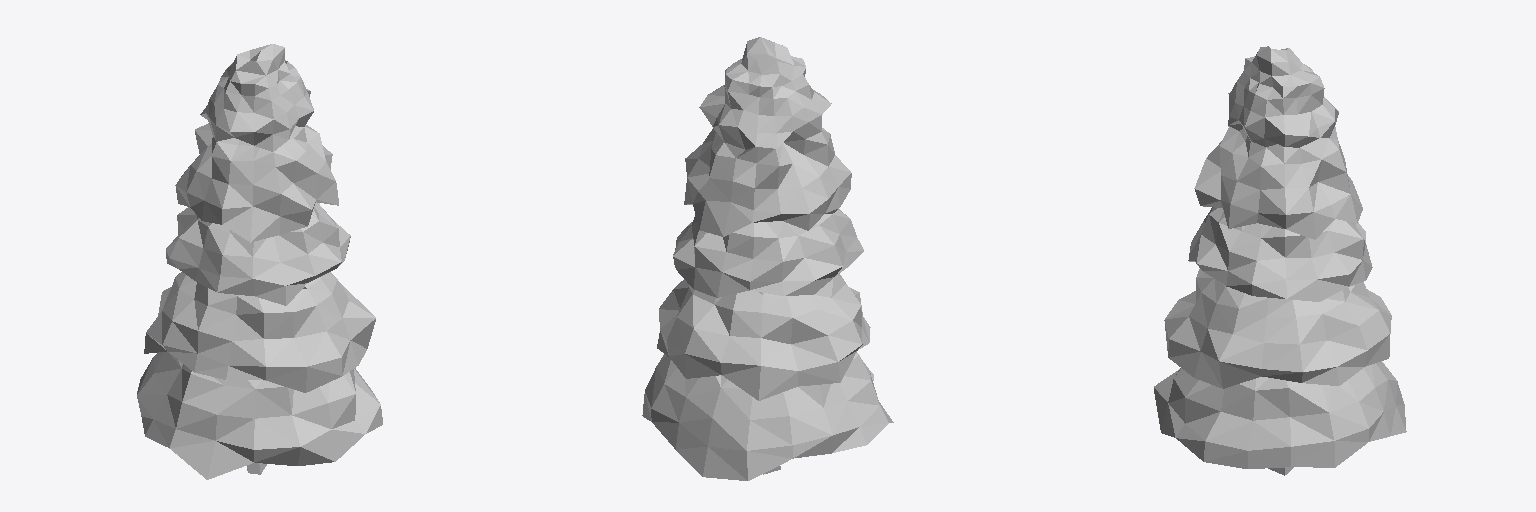
The model's file is tree.obj.
The picture shows the model from 3 angles: view 1: azimuth 30°, elevation 25°; view 2: azimuth 150°, elevation 25°; view 3: azimuth 270°, elevation 25°; orthographic projection.
Visible parts, largest first — view 1: _1_tree__1_tree_0; view 2: _1_tree__1_tree_0; view 3: _1_tree__1_tree_0.
Boxes of the visible parts, <box> form: _1_tree__1_tree_0: <box>137,44,382,479</box>; _1_tree__1_tree_0: <box>642,37,893,480</box>; _1_tree__1_tree_0: <box>1154,46,1406,475</box>.
Bounding box in the file's own units: 0.8979 × 1.74 × 0.9358.